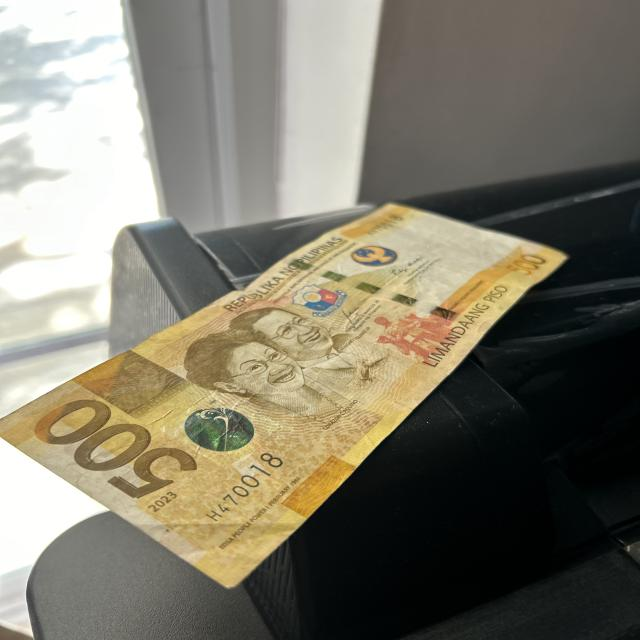concealed_value: (89, 354, 176, 402)
optically_variable_device: (180, 408, 255, 449)
watermark: (386, 222, 511, 270)
